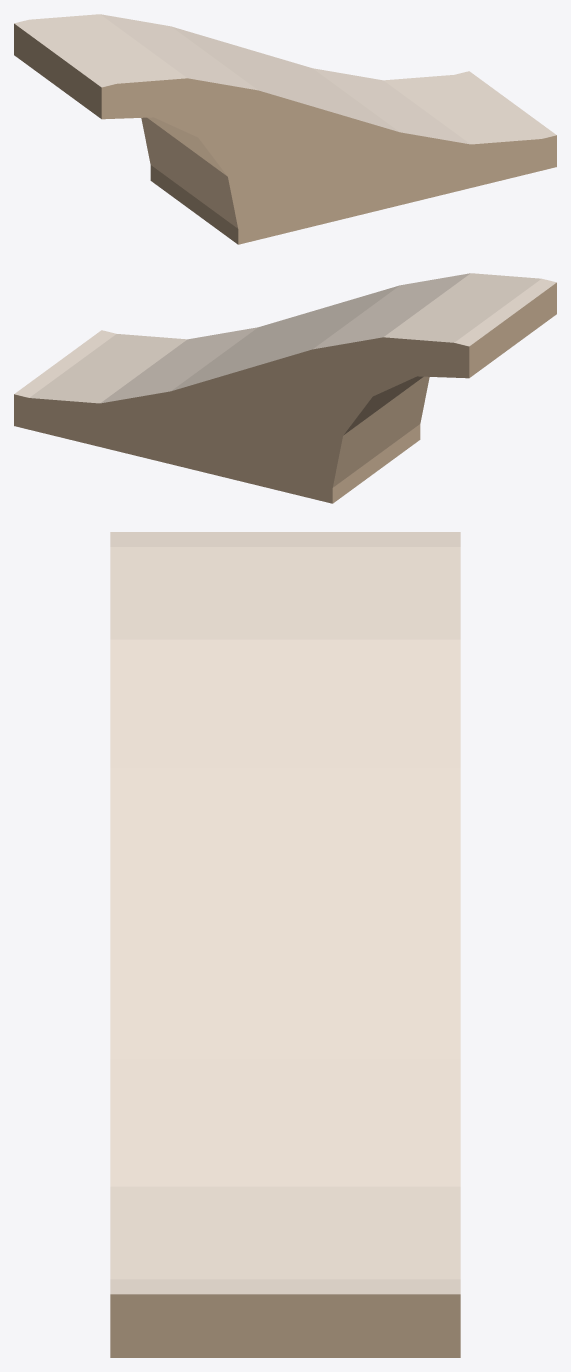
The model's file is Floor_Bridge_Ramp.obj.
3 renders of one model, top to bottom at view 1: azimuth 30°, elevation 25°; view 2: azimuth 150°, elevation 25°; view 3: azimuth 270°, elevation 25°, orthographic. The views are drawn at different scales.
Visible parts, largest first — view 1: object1; view 2: object1; view 3: object1.
Part boxes in pixels (x1,y1,x2,y2): object1: (14,14,556,244); object1: (14,273,556,503); object1: (110,532,460,1357).
Bounding box in the file's own units: 3 × 1.2 × 1.
